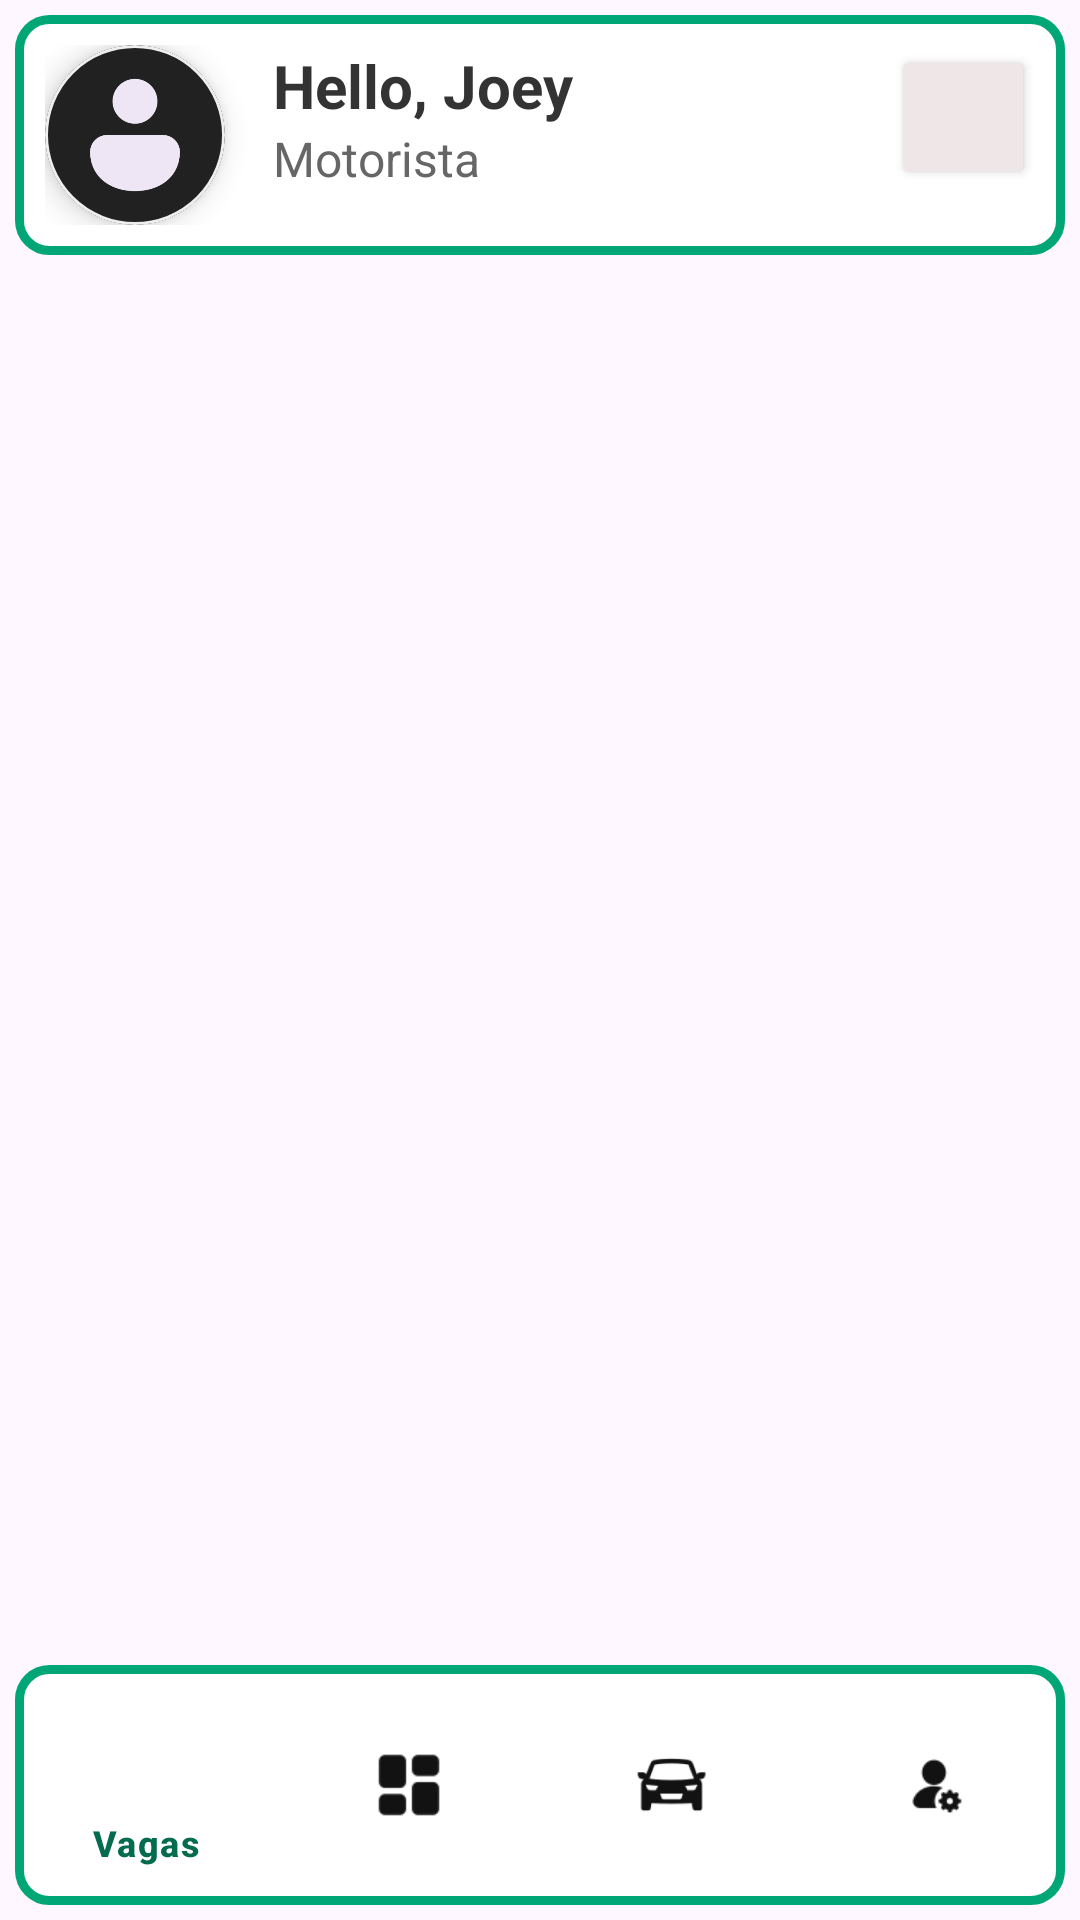

Icon bounding boxes for this 1080px x 1920px phone screenshot, format bbox(x1, y1, x2, y2):
Foto do perfil: bbox(45, 45, 225, 225)
